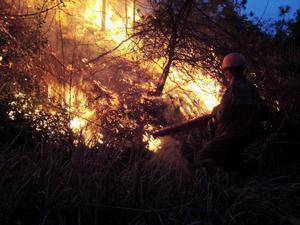fire: (44, 82, 155, 146), (80, 0, 151, 54), (153, 57, 221, 112)
